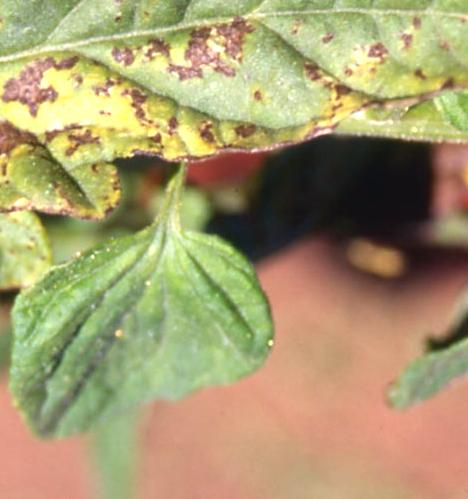Tomato leaf bacterial spot: (0, 0, 468, 293), (0, 178, 291, 485)
